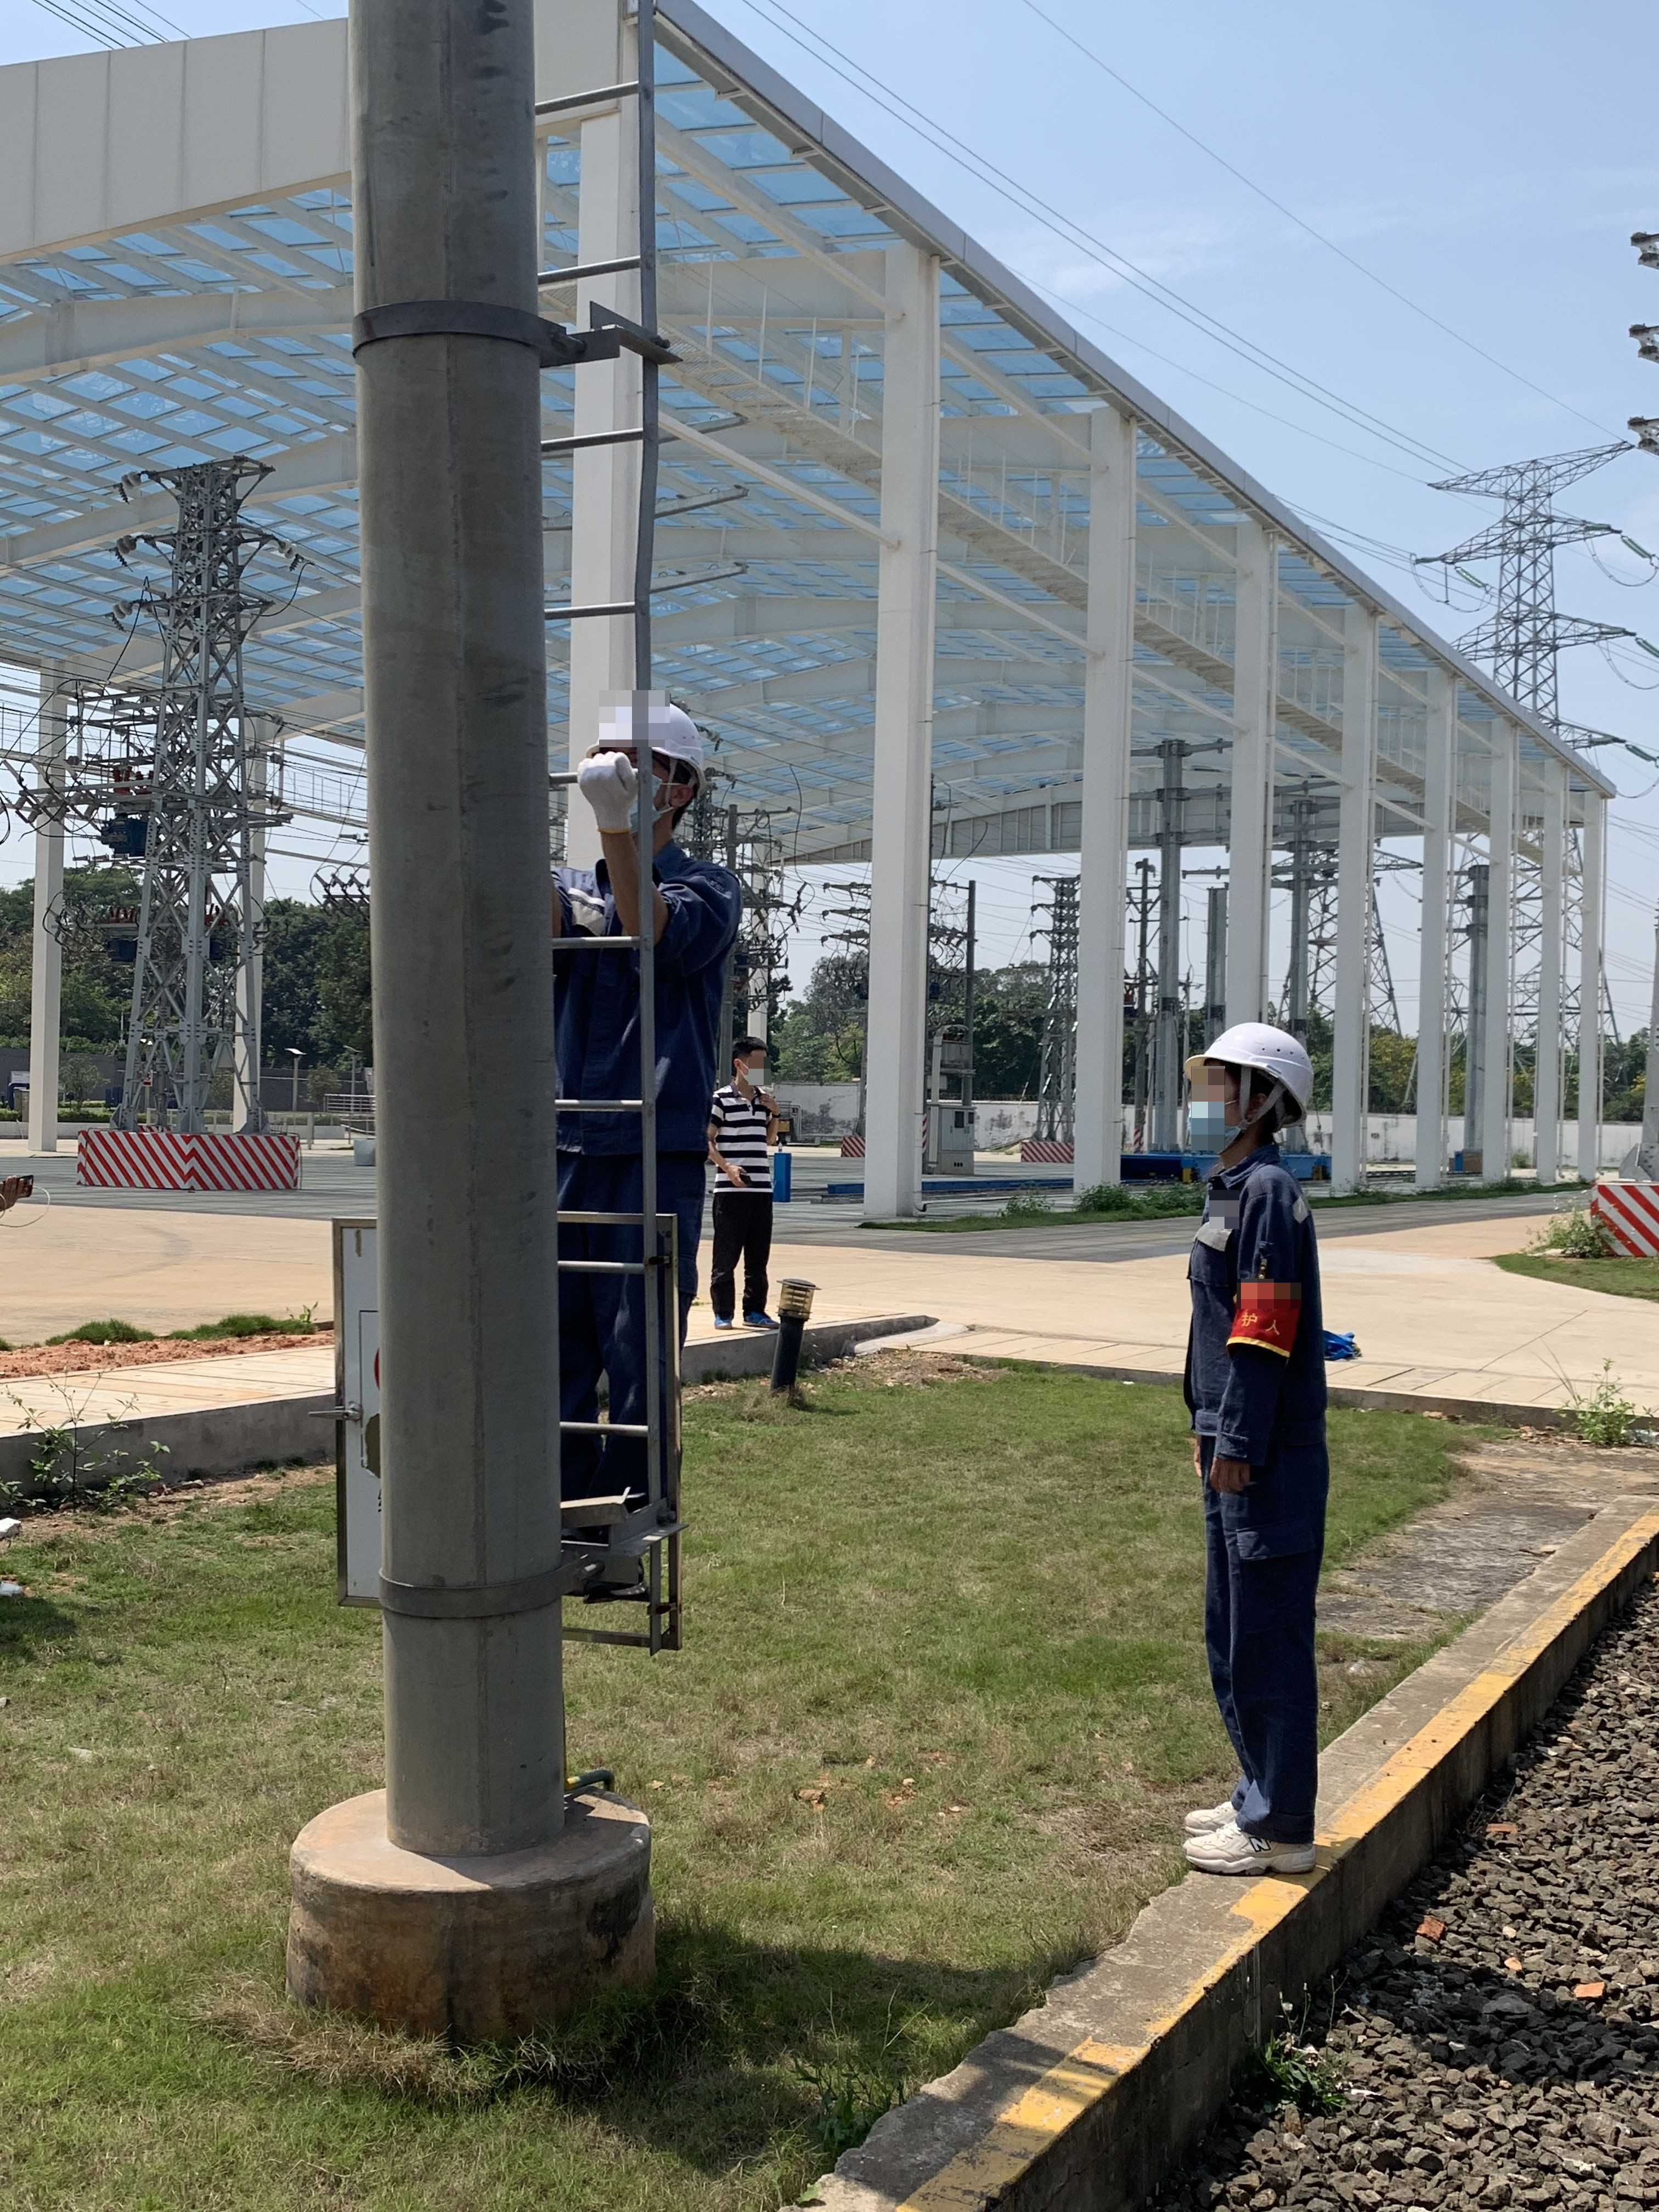downcloth: (708, 1193, 782, 1325)
downsuit: (556, 1150, 708, 1487), (1199, 1458, 1333, 1831)
upcloth: (709, 1082, 791, 1193)
upsuit: (544, 840, 746, 1134), (1183, 1153, 1342, 1440)
wrongtop: (599, 813, 673, 951)
